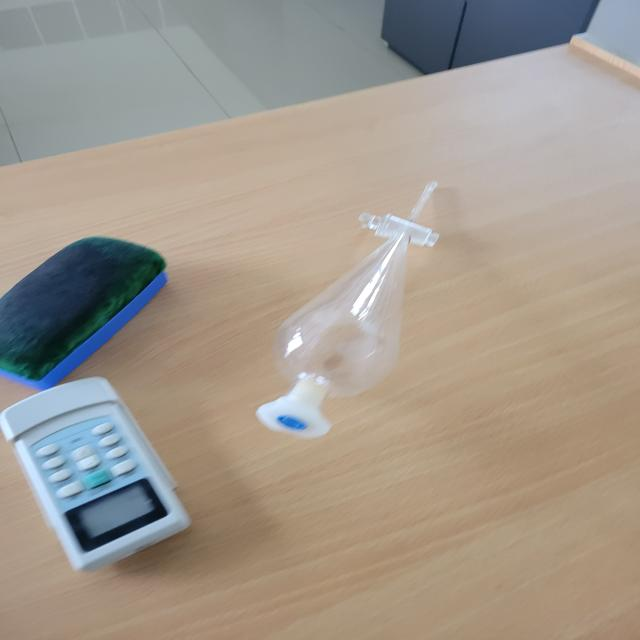Separating_Funnel: (242, 147, 480, 486)
